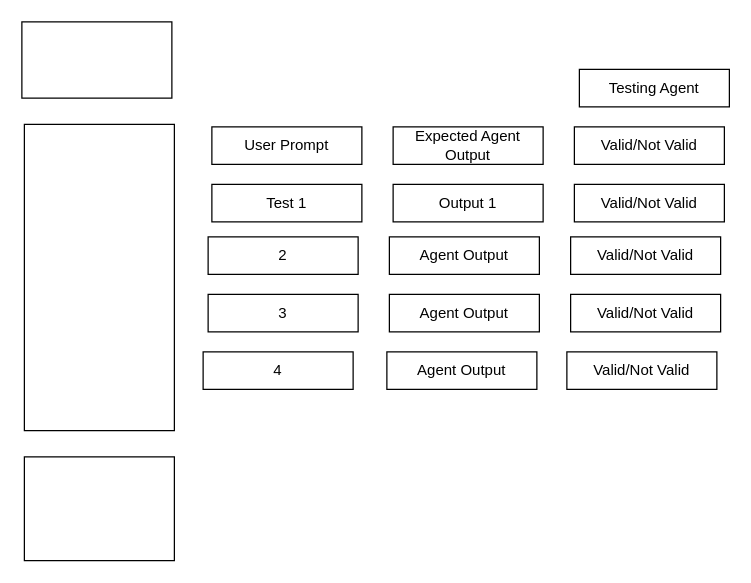
Some shapes in this 751 by 583 pixel diagram are drawn without their labels. The shapes that lost their labels are listed below. From the top down, each one's centre as x and y in pixels, then its label:
point 96,59: Model Selection
point 98,277: System Prompt
point 98,508: Tool Selection
